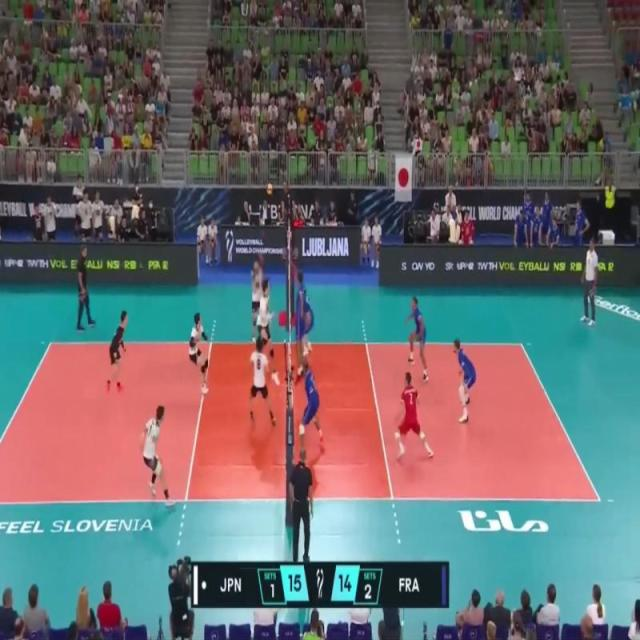volleyball: (265, 182, 274, 196)
